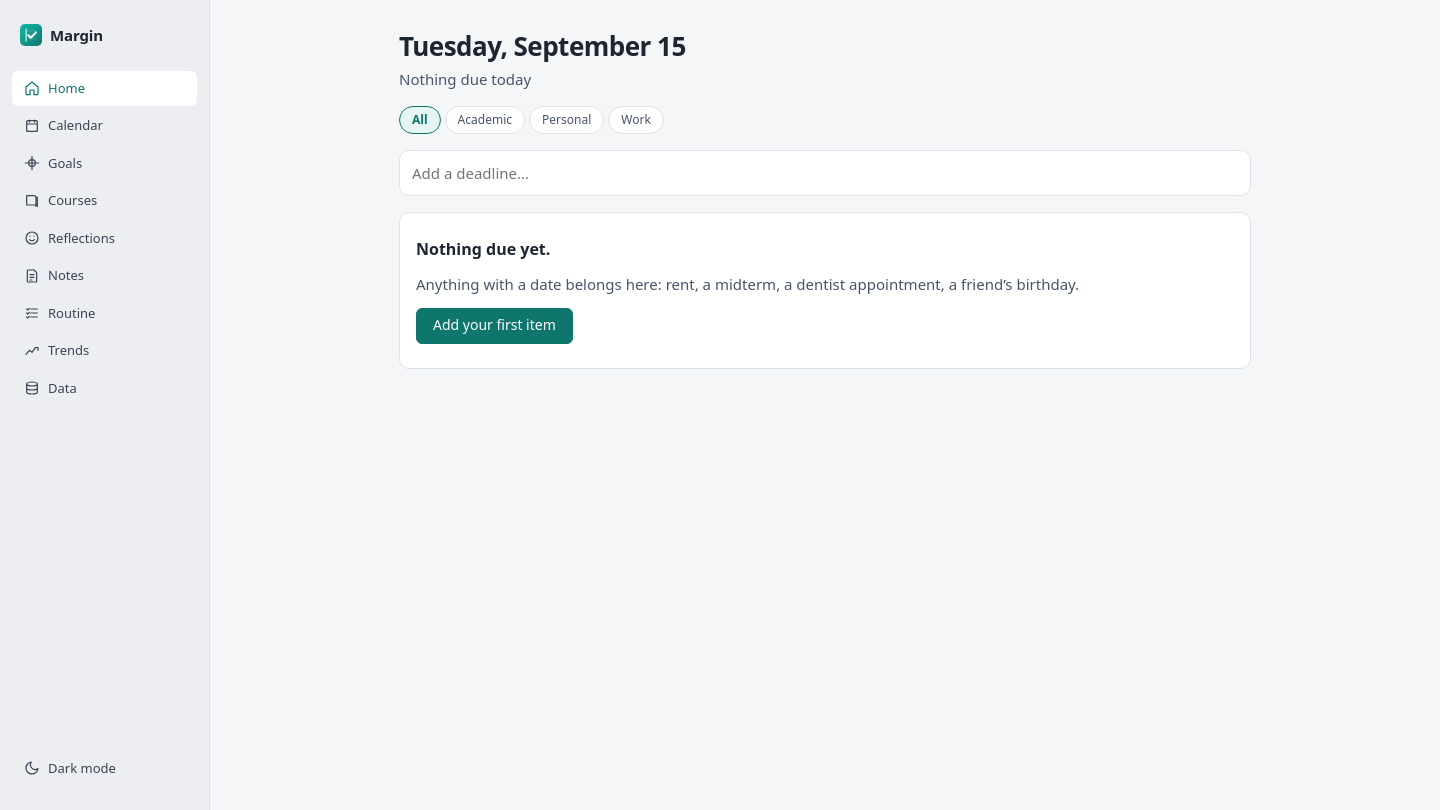
AC-01.1 school and life items sit in the same list
Type "CSE 100 project" into the field named "Title". click: (825, 173)
box: [400,151,1250,195]
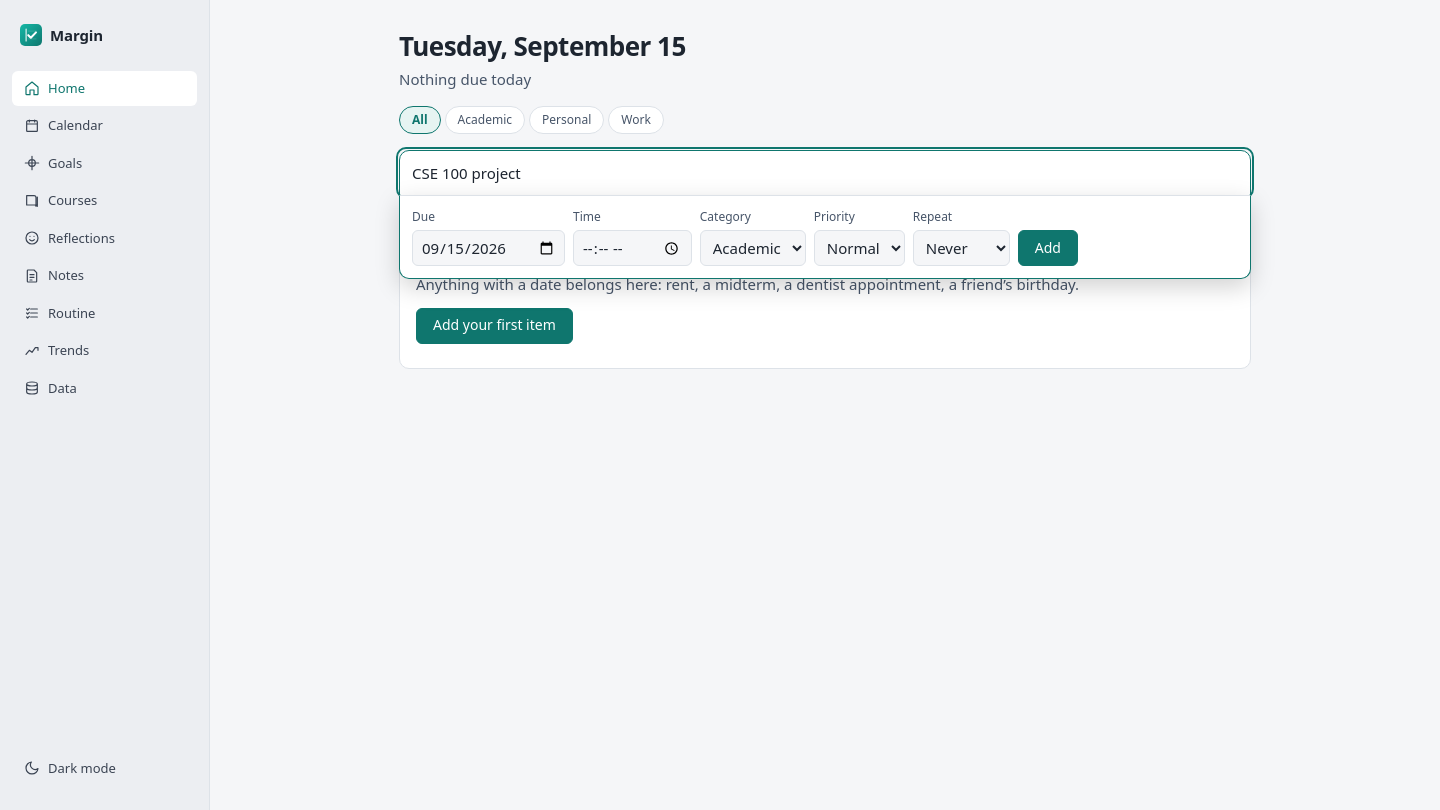
Type "2026-10-03" into the date field labelled "Due". click: (488, 248)
box: [412,230,565,266]
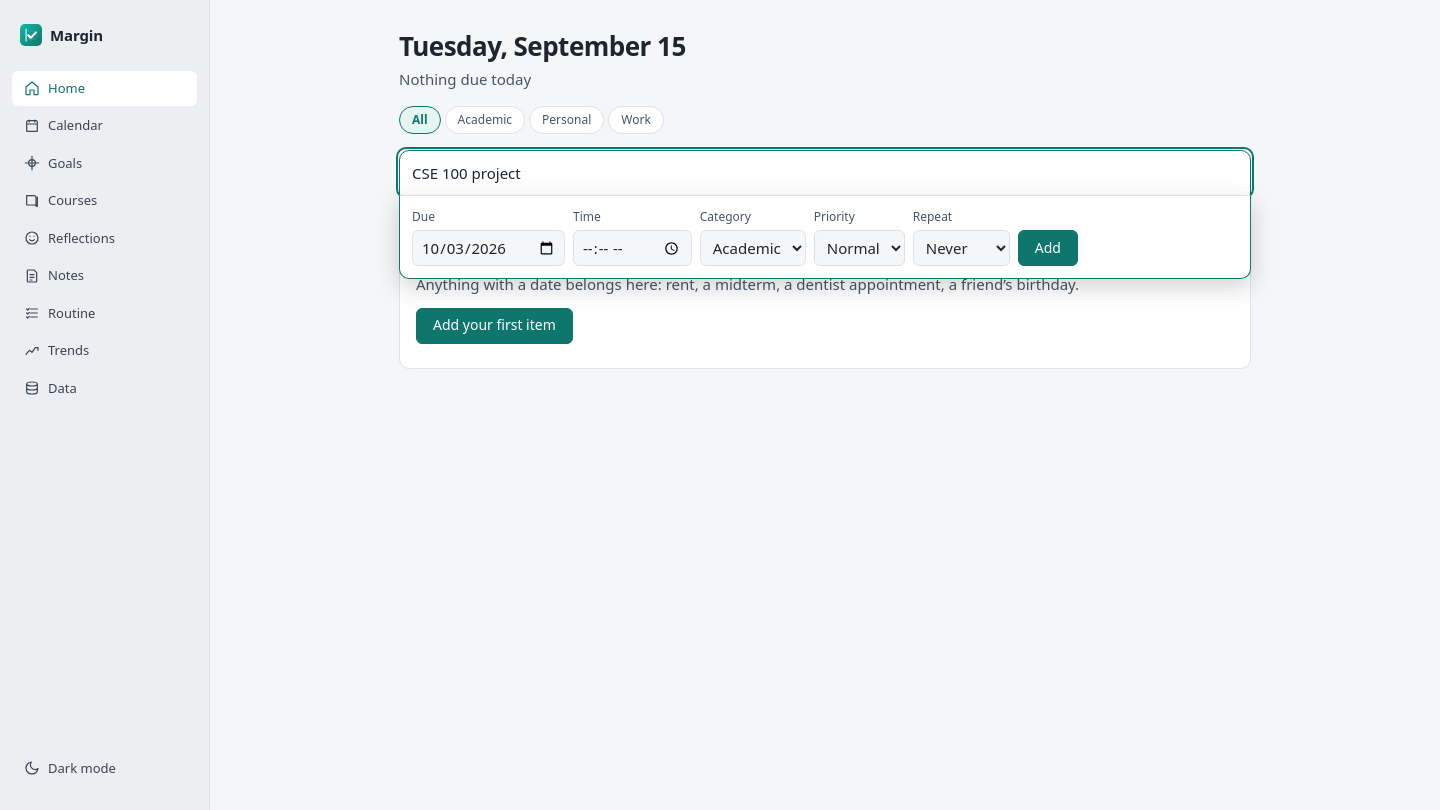
Click the button "Add". click: (1048, 248)
box: [1018,230,1078,266]
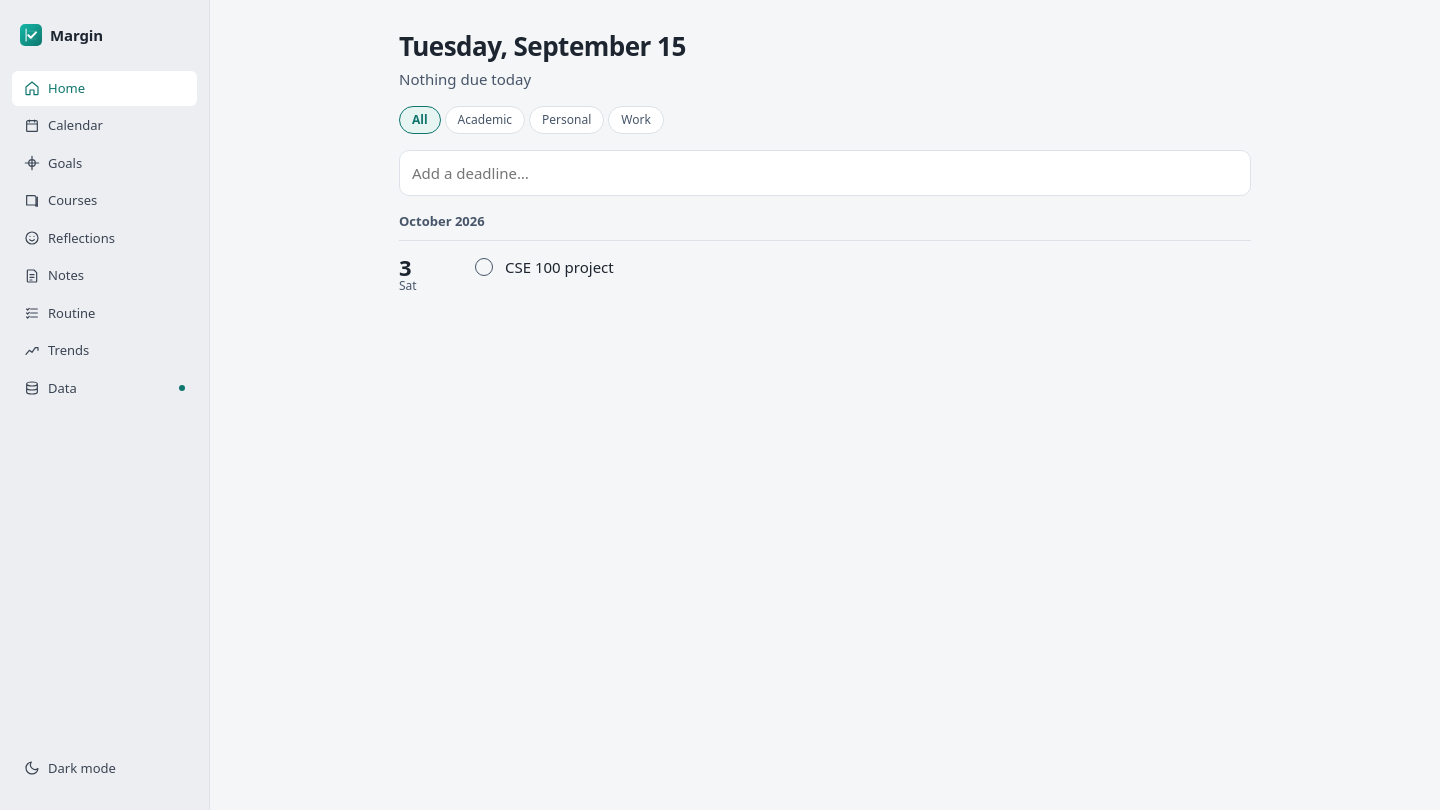
Type "Rent" into the field named "Title". click: (825, 173)
box: [400,151,1250,195]
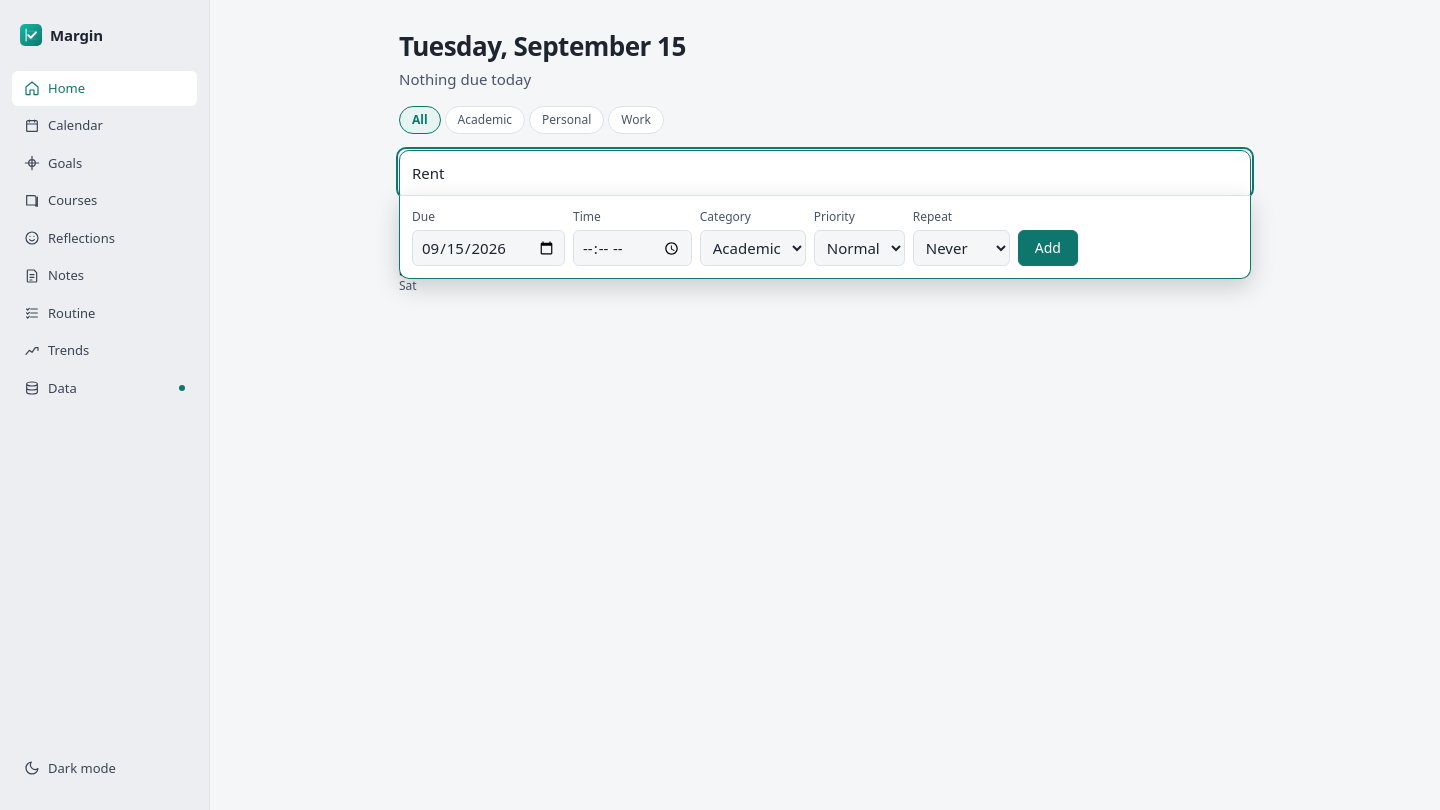
Type "2026-10-01" into the date field labelled "Due". click: (488, 248)
box: [412,230,565,266]
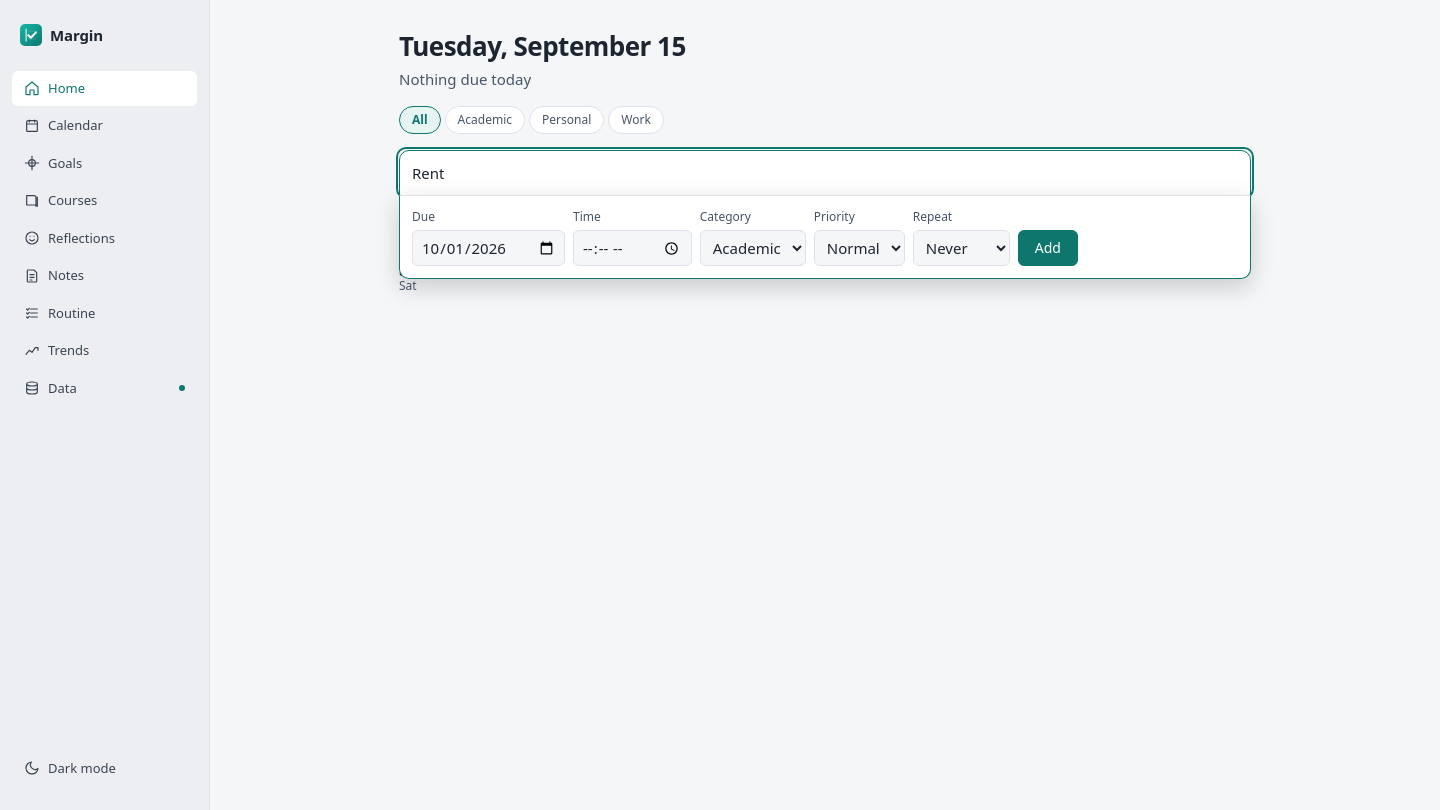
Click the button "Add". click: (1048, 248)
box: [1018,230,1078,266]
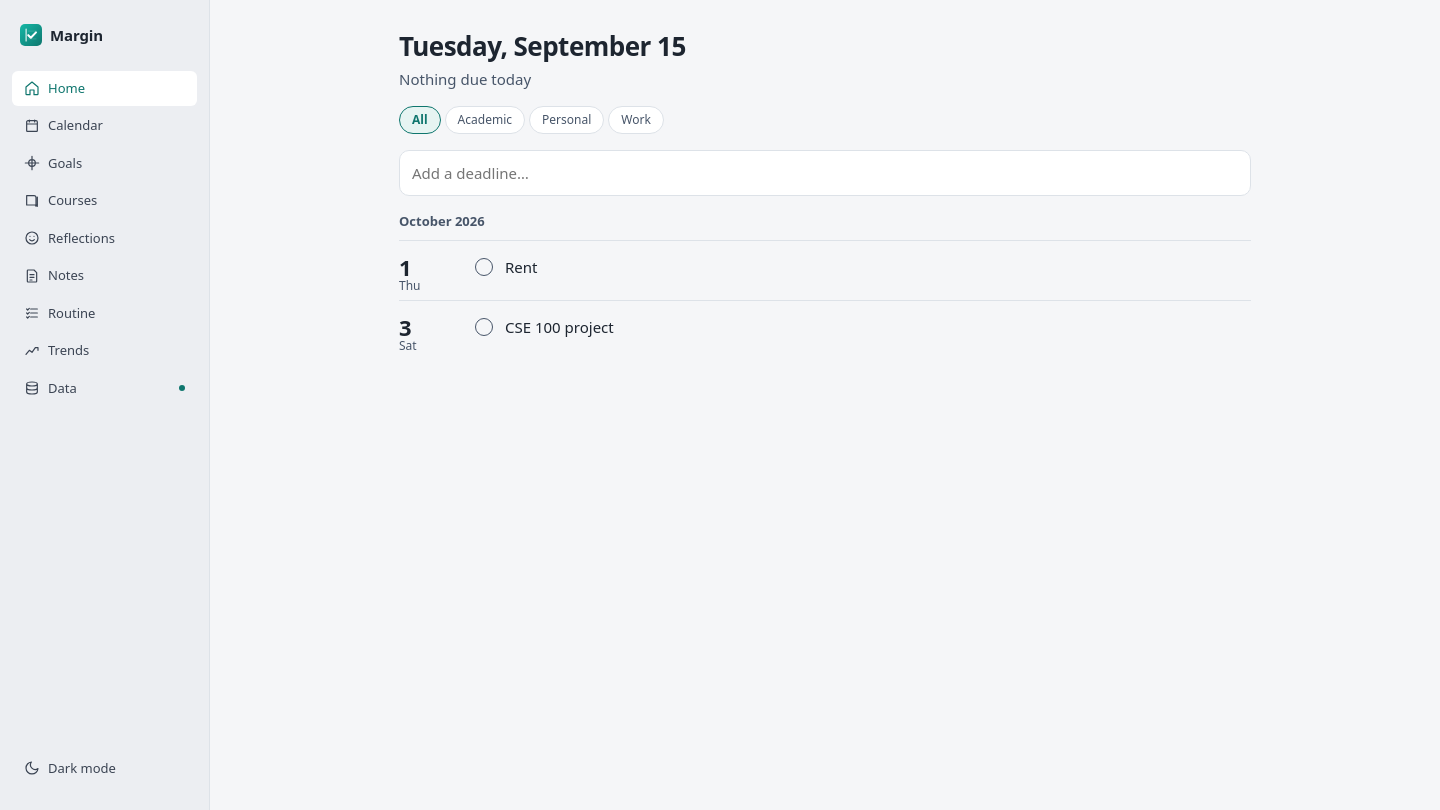
Now the number of buttons "Done" is 2, box [475,258,493,276]; [475,318,493,336]
